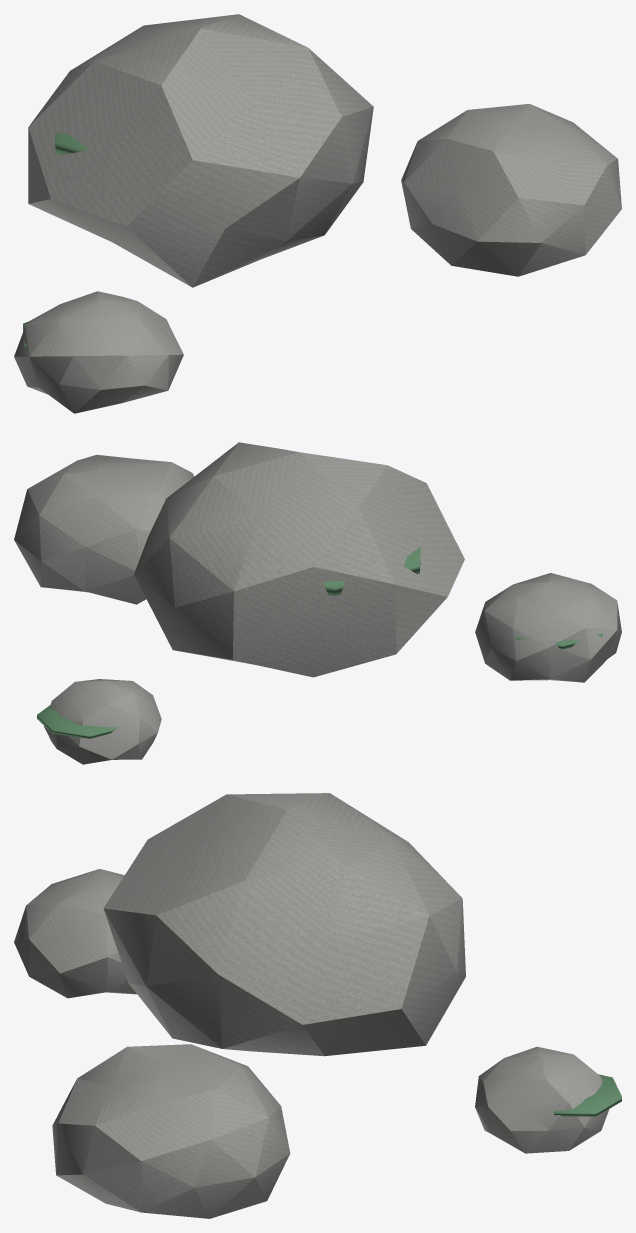
The model's file is rock.glb.
3 renders of one model, top to bottom at view 1: azimuth 30°, elevation 25°; view 2: azimuth 150°, elevation 25°; view 3: azimuth 270°, elevation 25°, orthographic. The views are drawn at different scales.
Visible parts, largest first — view 1: boulder-cluster; view 2: boulder-cluster; view 3: boulder-cluster.
Part boxes in pixels (<box>): boulder-cluster: <box>14,14,621,413</box>; boulder-cluster: <box>14,442,621,764</box>; boulder-cluster: <box>14,793,621,1218</box>.
Size of the model in its own units: 3.22 by 1.3 by 2.64.
2 materials, 1 textured.
